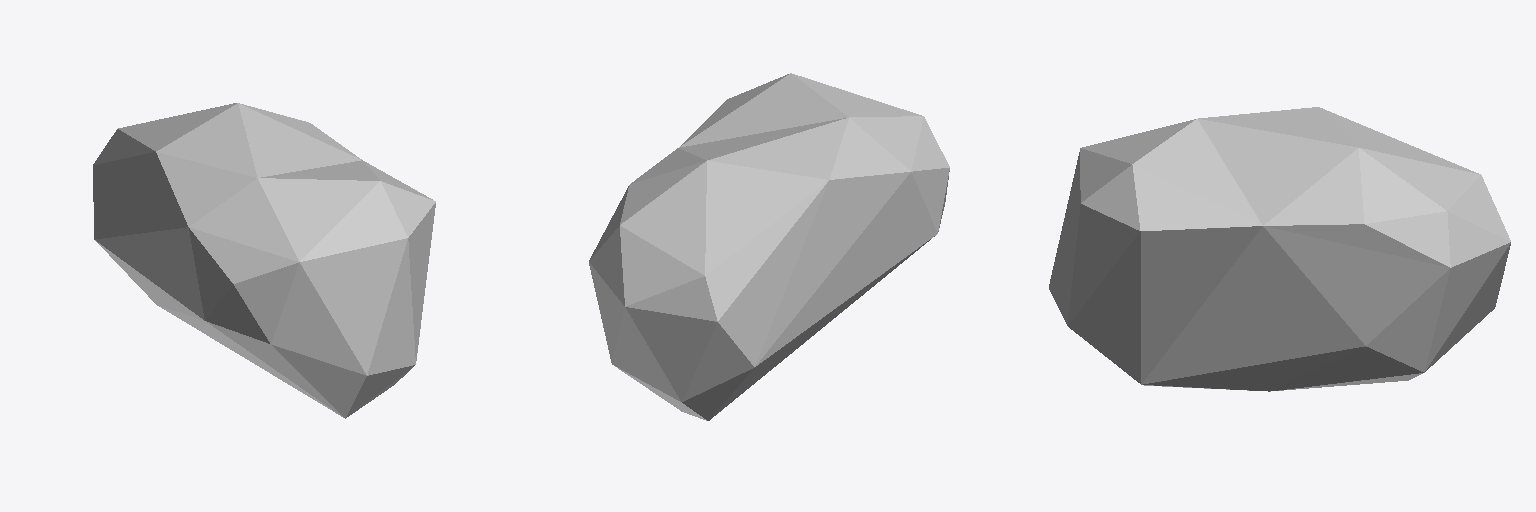
File: huge_rock1.obj
3 views of the same model, side by side, from view 1: azimuth 30°, elevation 25°; view 2: azimuth 150°, elevation 25°; view 3: azimuth 270°, elevation 25° (orthographic).
Parts seen in each view (by area): view 1: BigRock3_Cube.011; view 2: BigRock3_Cube.011; view 3: BigRock3_Cube.011.
Part boxes in pixels (left/top/right/bottom): BigRock3_Cube.011: left=93, top=103, right=435, bottom=418; BigRock3_Cube.011: left=589, top=73, right=949, bottom=420; BigRock3_Cube.011: left=1049, top=107, right=1510, bottom=391.
Size of the model in its own units: 3.94 by 4.05 by 7.14.